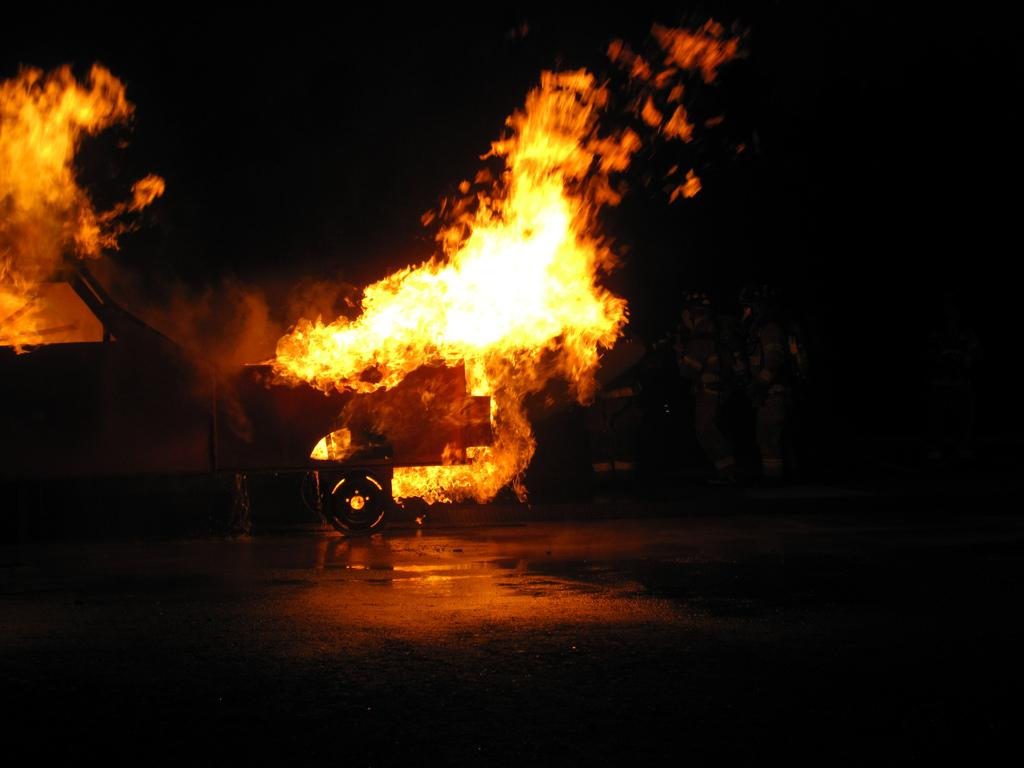fire: (470, 194, 596, 350), (8, 106, 80, 318), (314, 294, 460, 392)
